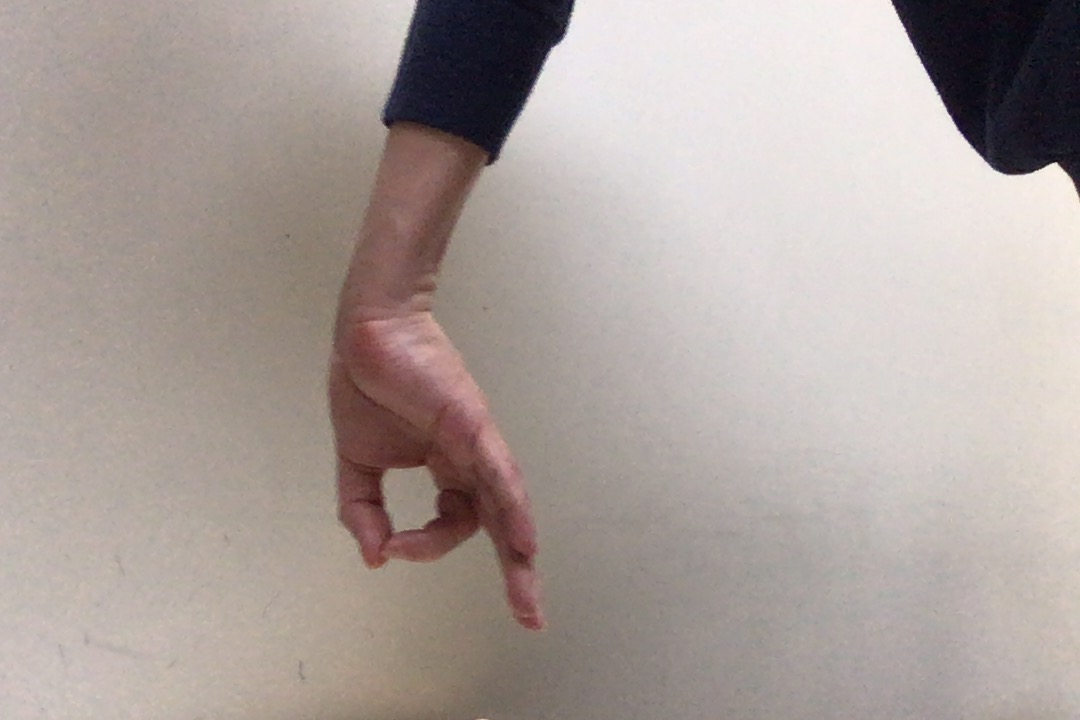oksign: (311, 299, 557, 637)
